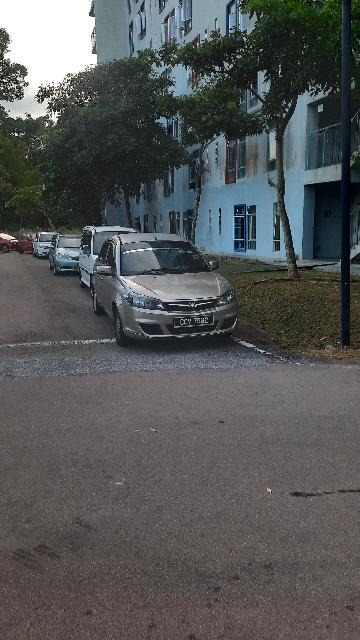License_Plate: (166, 314, 219, 328)
car: (93, 236, 244, 344)
